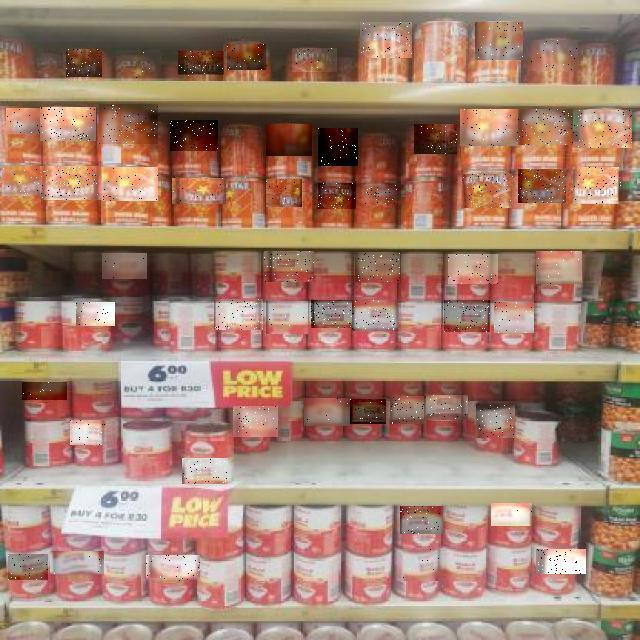Beans: (99, 104, 158, 144), (573, 110, 632, 148), (514, 109, 574, 145), (460, 109, 518, 146), (40, 166, 103, 200), (41, 107, 97, 141), (102, 167, 158, 201), (360, 22, 412, 58), (475, 22, 523, 60), (574, 167, 622, 204), (462, 174, 513, 208), (264, 252, 314, 286), (519, 169, 567, 203), (528, 40, 578, 71), (319, 128, 359, 166), (214, 299, 263, 330), (536, 251, 582, 284), (448, 254, 498, 284), (171, 120, 219, 151), (266, 124, 312, 156), (444, 300, 490, 332), (353, 300, 399, 331), (50, 552, 104, 578), (146, 556, 200, 582), (172, 178, 226, 204), (233, 406, 278, 437), (404, 548, 446, 581), (266, 301, 308, 334), (355, 252, 400, 282), (116, 50, 162, 79), (476, 404, 515, 438), (414, 124, 457, 154), (304, 399, 350, 427), (536, 549, 586, 574), (495, 302, 535, 333), (400, 506, 443, 534), (311, 301, 354, 329), (183, 459, 229, 485), (178, 52, 224, 78), (2, 166, 41, 196), (102, 253, 147, 279), (292, 48, 337, 72), (426, 395, 468, 420), (9, 554, 49, 580), (228, 44, 268, 70), (66, 49, 102, 77), (267, 179, 303, 207), (318, 183, 356, 209), (492, 503, 534, 526), (390, 396, 424, 424), (348, 399, 386, 424), (76, 302, 115, 326), (71, 420, 107, 445), (6, 108, 40, 134), (22, 383, 67, 401), (363, 185, 397, 204)
